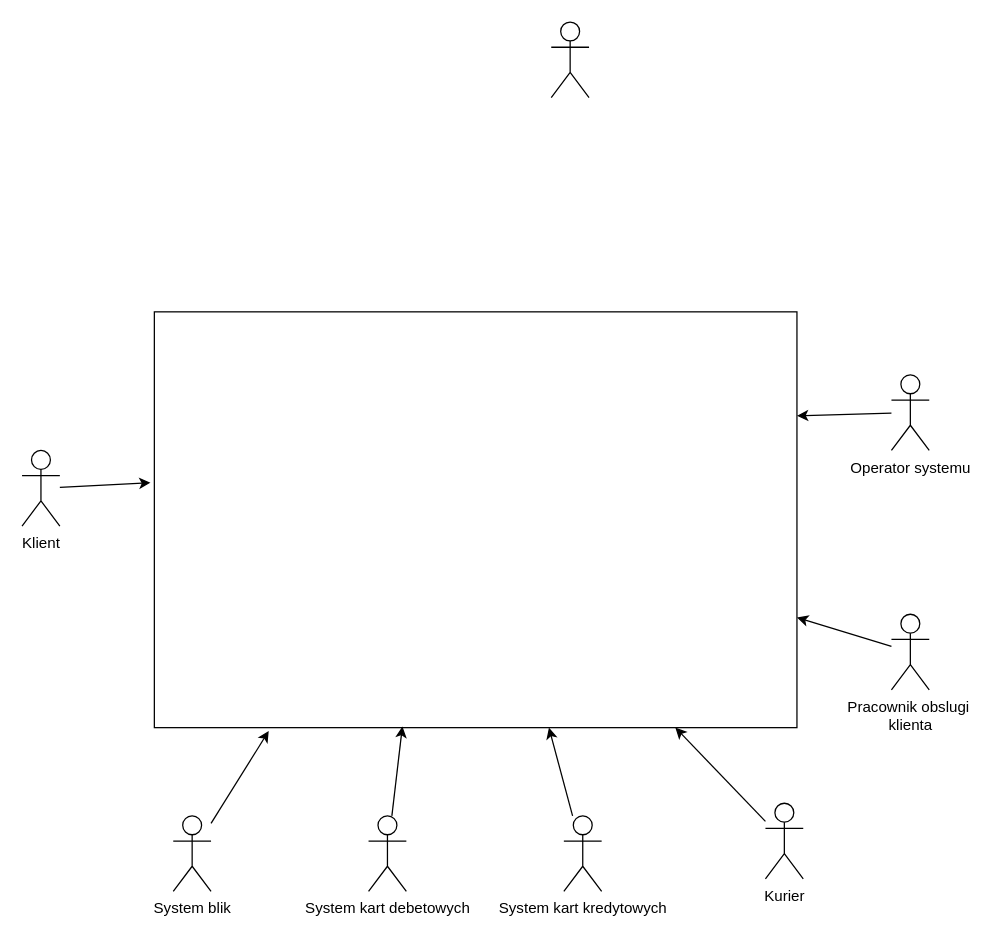
The diagram is 995 pixels wide and 940 high, and some of its shapes have lost their labels. The shapes that lost their labels are listed below. From the top down, each one's centre as x and y in pixels, then its label:
At pixel 569 59: "Automat paczkowy".
At pixel 475 519: "System Zarządzania Paczkami".
